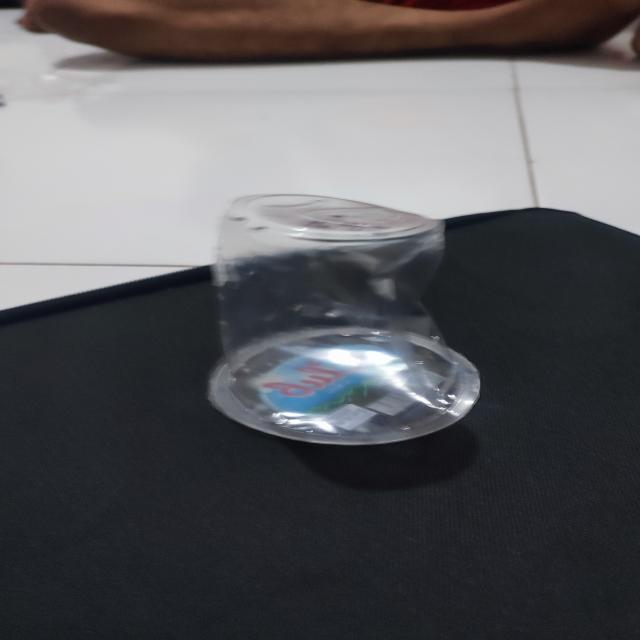air-gelas-rusak: (186, 185, 513, 454)
